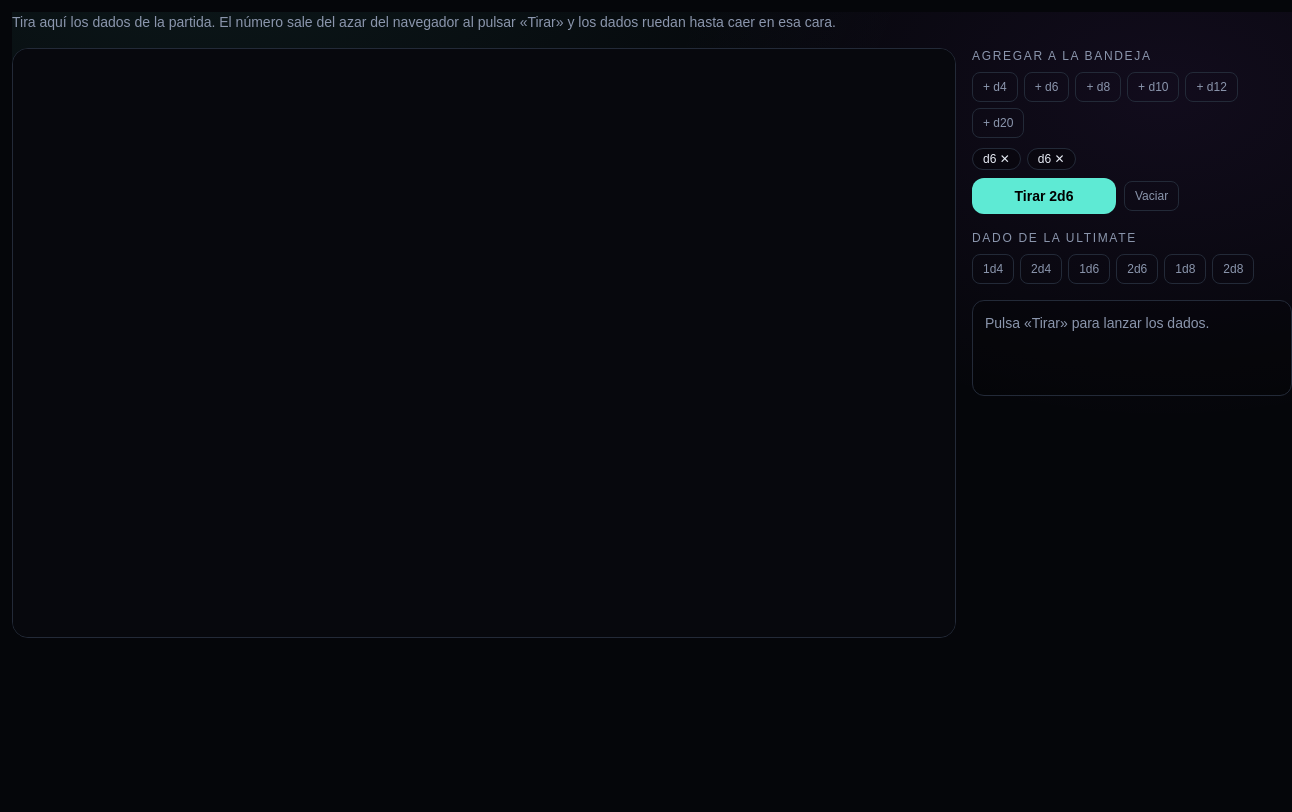
Scenario: DadosPanel › el atajo de la Ultimate tira esos dados y dice cuánto vale cada ataque
Click the button "2d4" at (1041, 269), box [1020,254,1062,284]
Wait 2350 ms
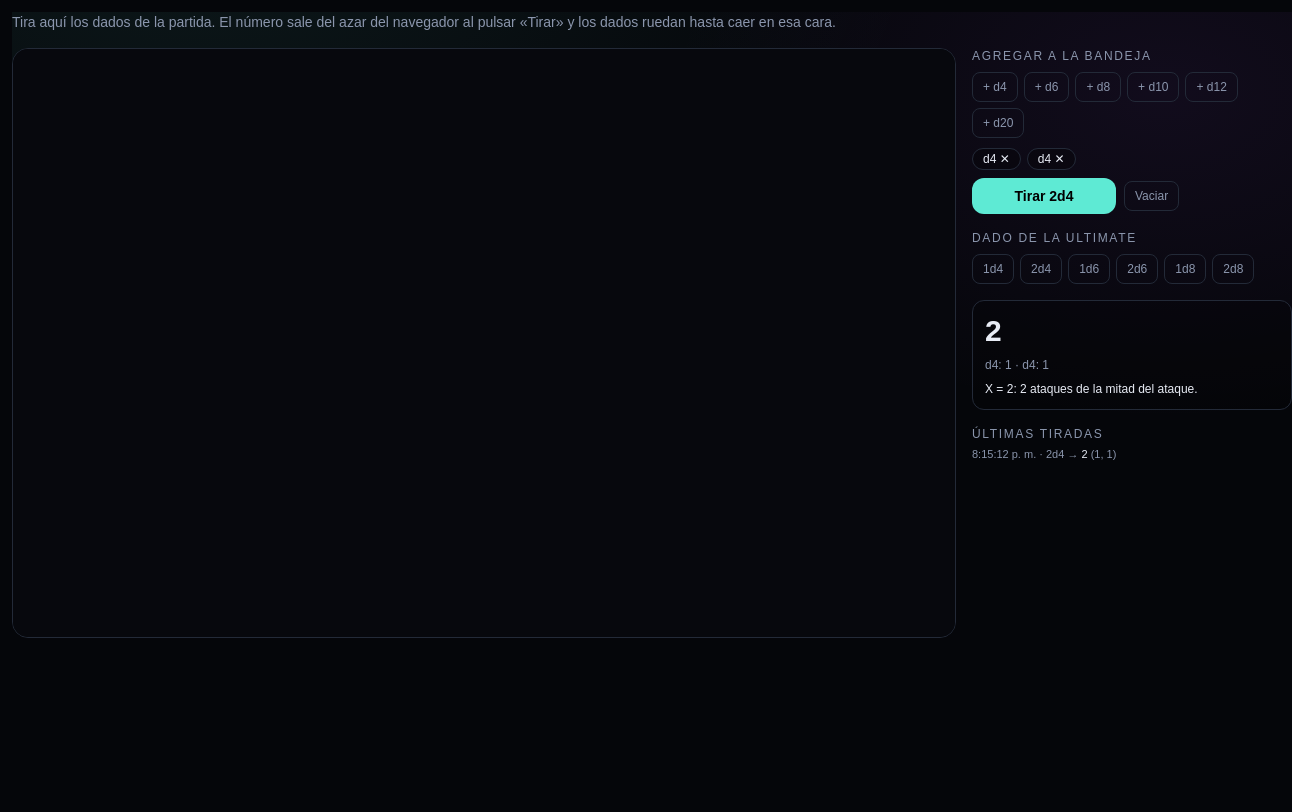
Expected: the text with test id "dados-total" reads "2", [985,314,1002,347]
Expected: the element with test id "dados-resultado" shows "X = 2: 2 ataques de la mitad del ataque.", [972,300,1291,410]
